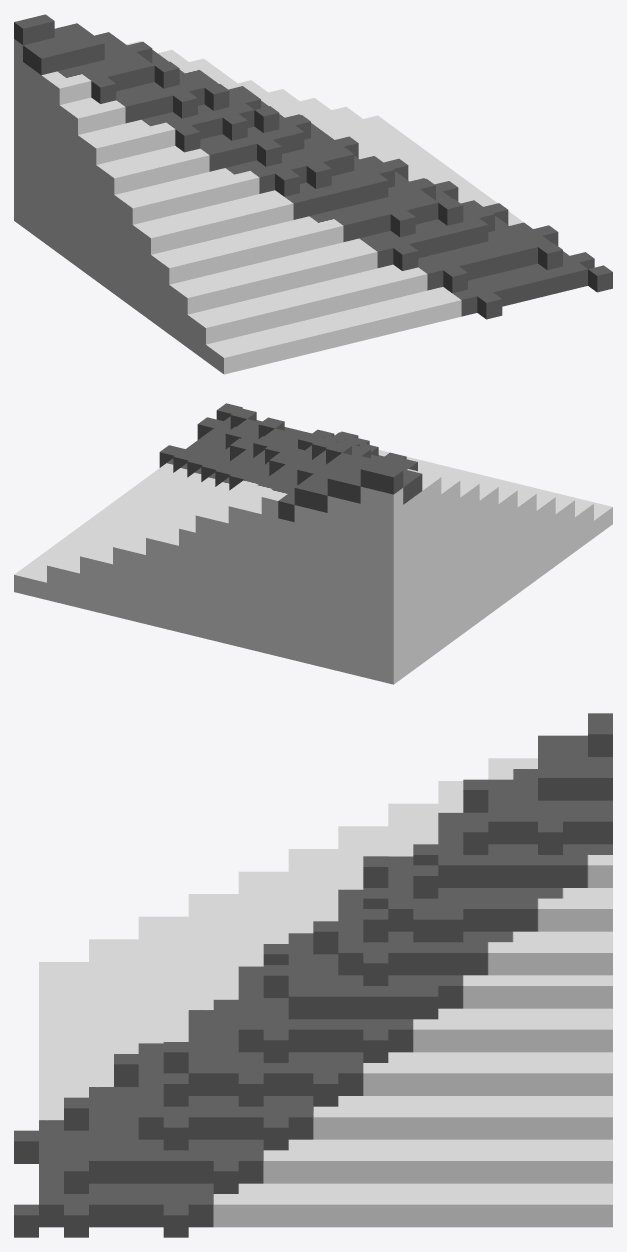
File: fourteenthModelRoof.fbx
The picture shows the model from 3 angles, top to bottom: view 1: azimuth 30°, elevation 25°; view 2: azimuth 150°, elevation 25°; view 3: azimuth 270°, elevation 25°; orthographic projection. The views are drawn at different scales.
Parts seen in each view (by area): view 1: Box; view 2: Box; view 3: Box.
Part boxes in pixels (x1=…): Box: x1=14, y1=14, x2=612, y2=374; Box: x1=14, y1=403, x2=612, y2=684; Box: x1=14, y1=713, x2=612, y2=1237.
Size of the model in its own units: 24 by 12 by 24.
1 material, 1 textured.
